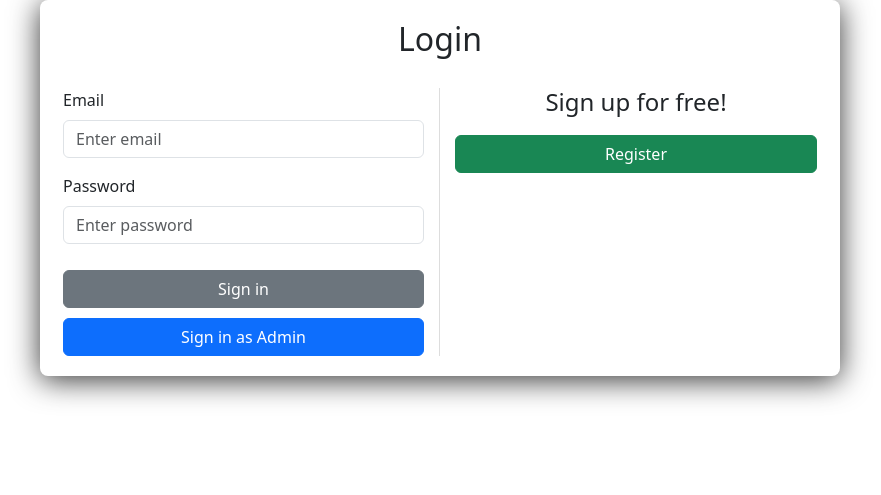
Scenario: Login Component › displays error message on invalid login
In the field labelled "Email": (244, 139) left=63, top=120, right=424, bottom=158, type "user@example.com"
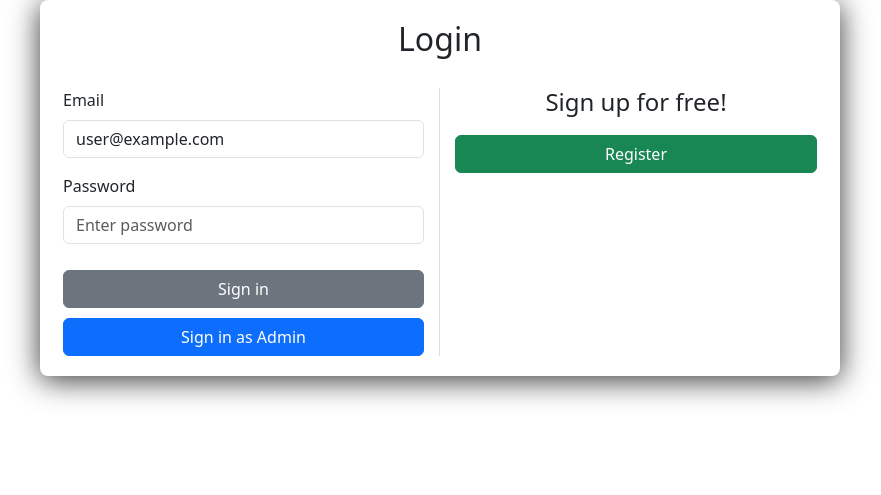
In the password field labelled "Password": (244, 225) left=63, top=206, right=424, bottom=244, type "password"
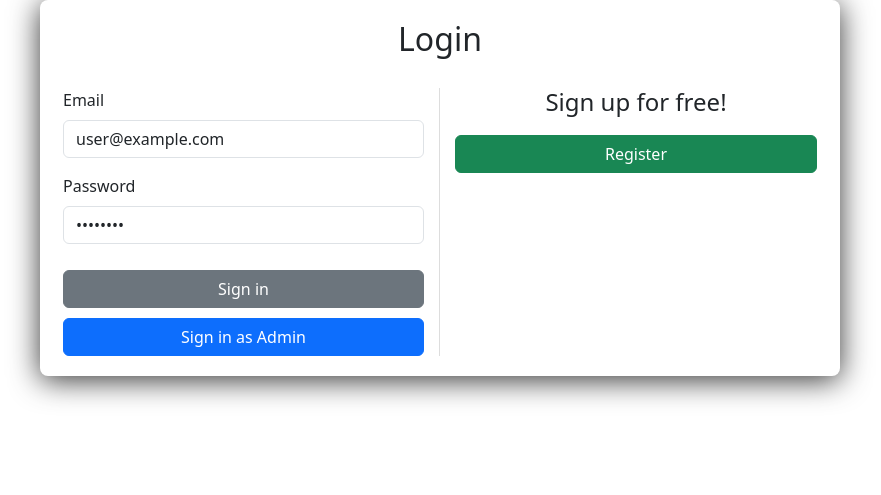
Click the button "Sign in": (244, 289) left=63, top=270, right=424, bottom=308
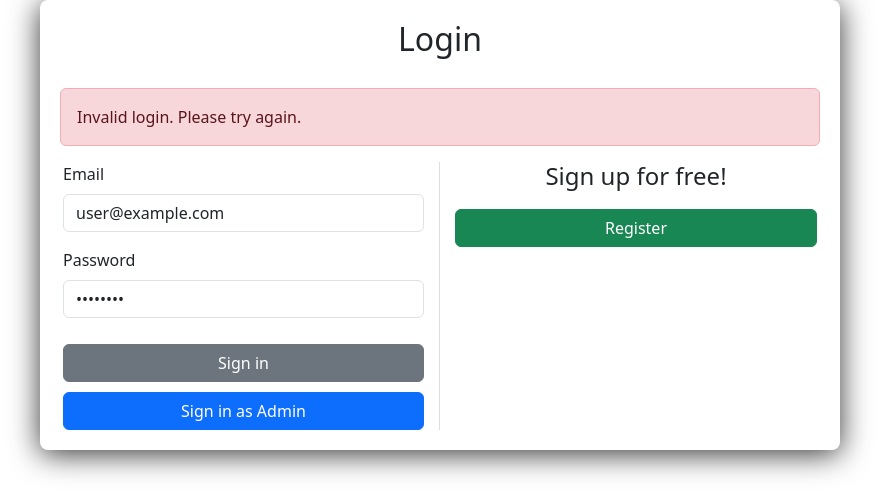
Now the text "Invalid login. Please try again." is shown, box left=60, top=88, right=820, bottom=146
